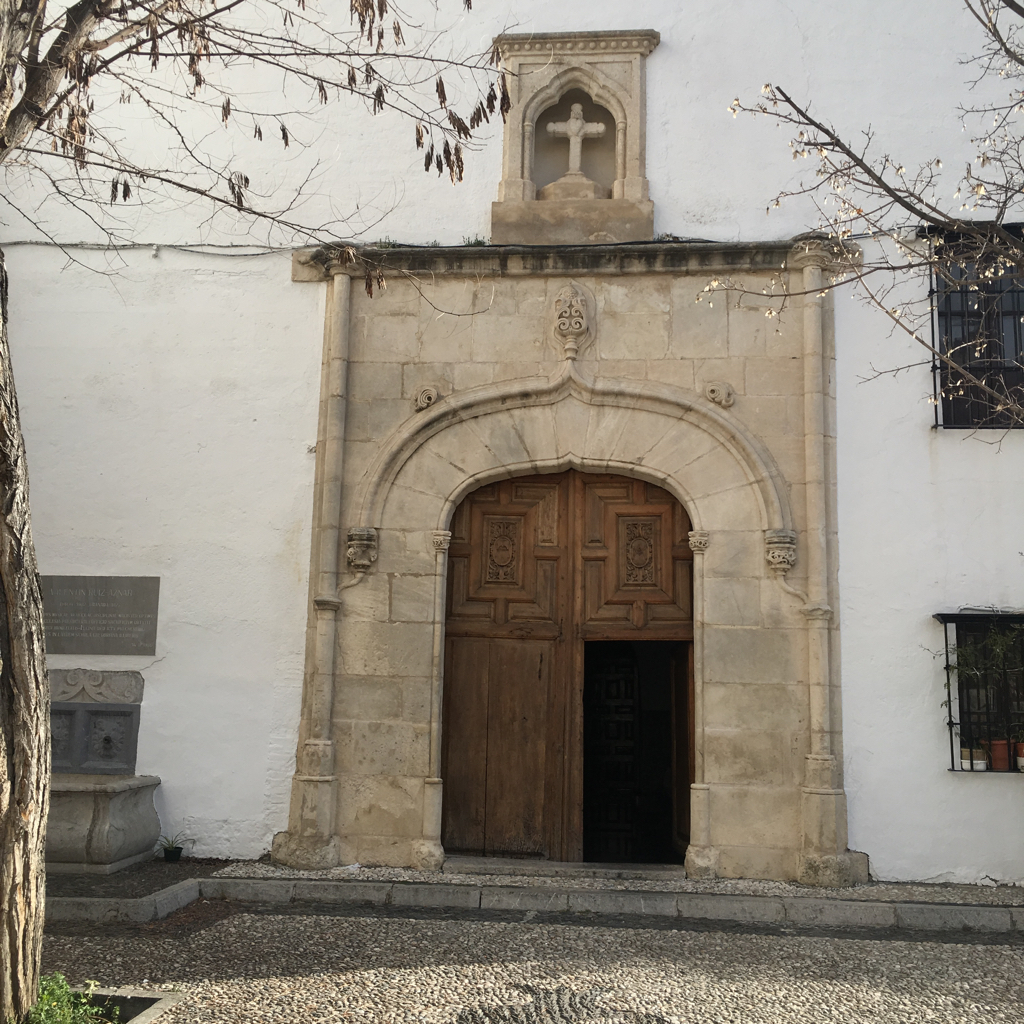arco-conopial: (387, 356, 757, 445), (444, 443, 701, 505)
